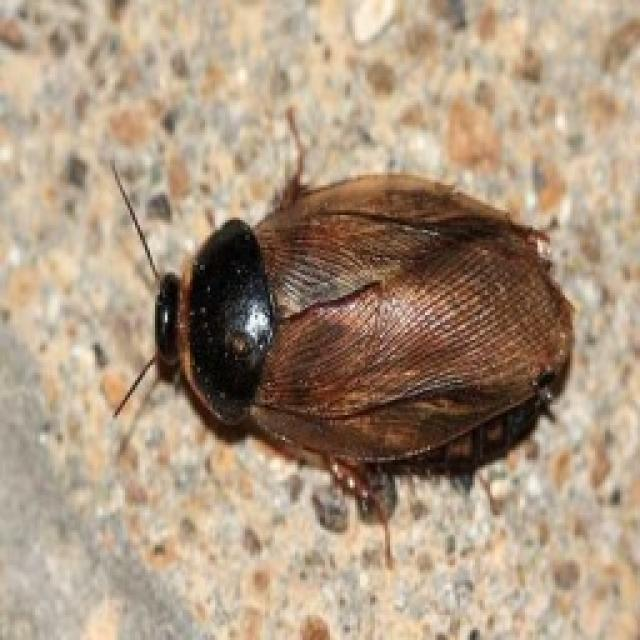cockroach: (98, 106, 580, 564)
